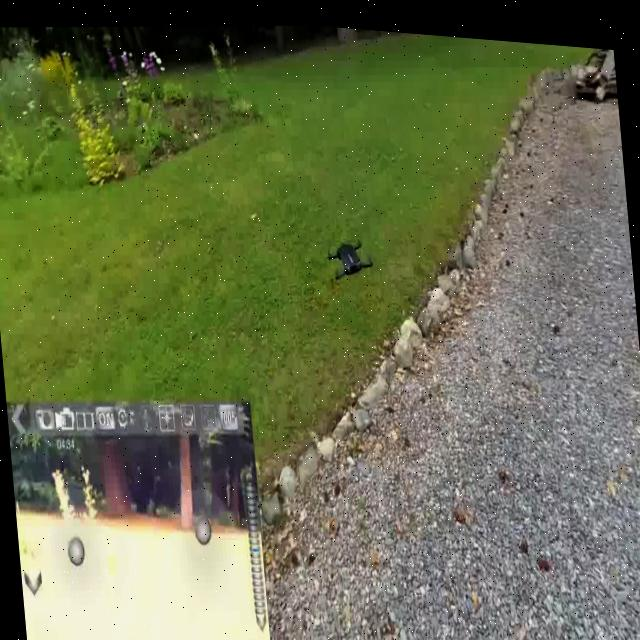drone: (288, 195, 397, 311)
